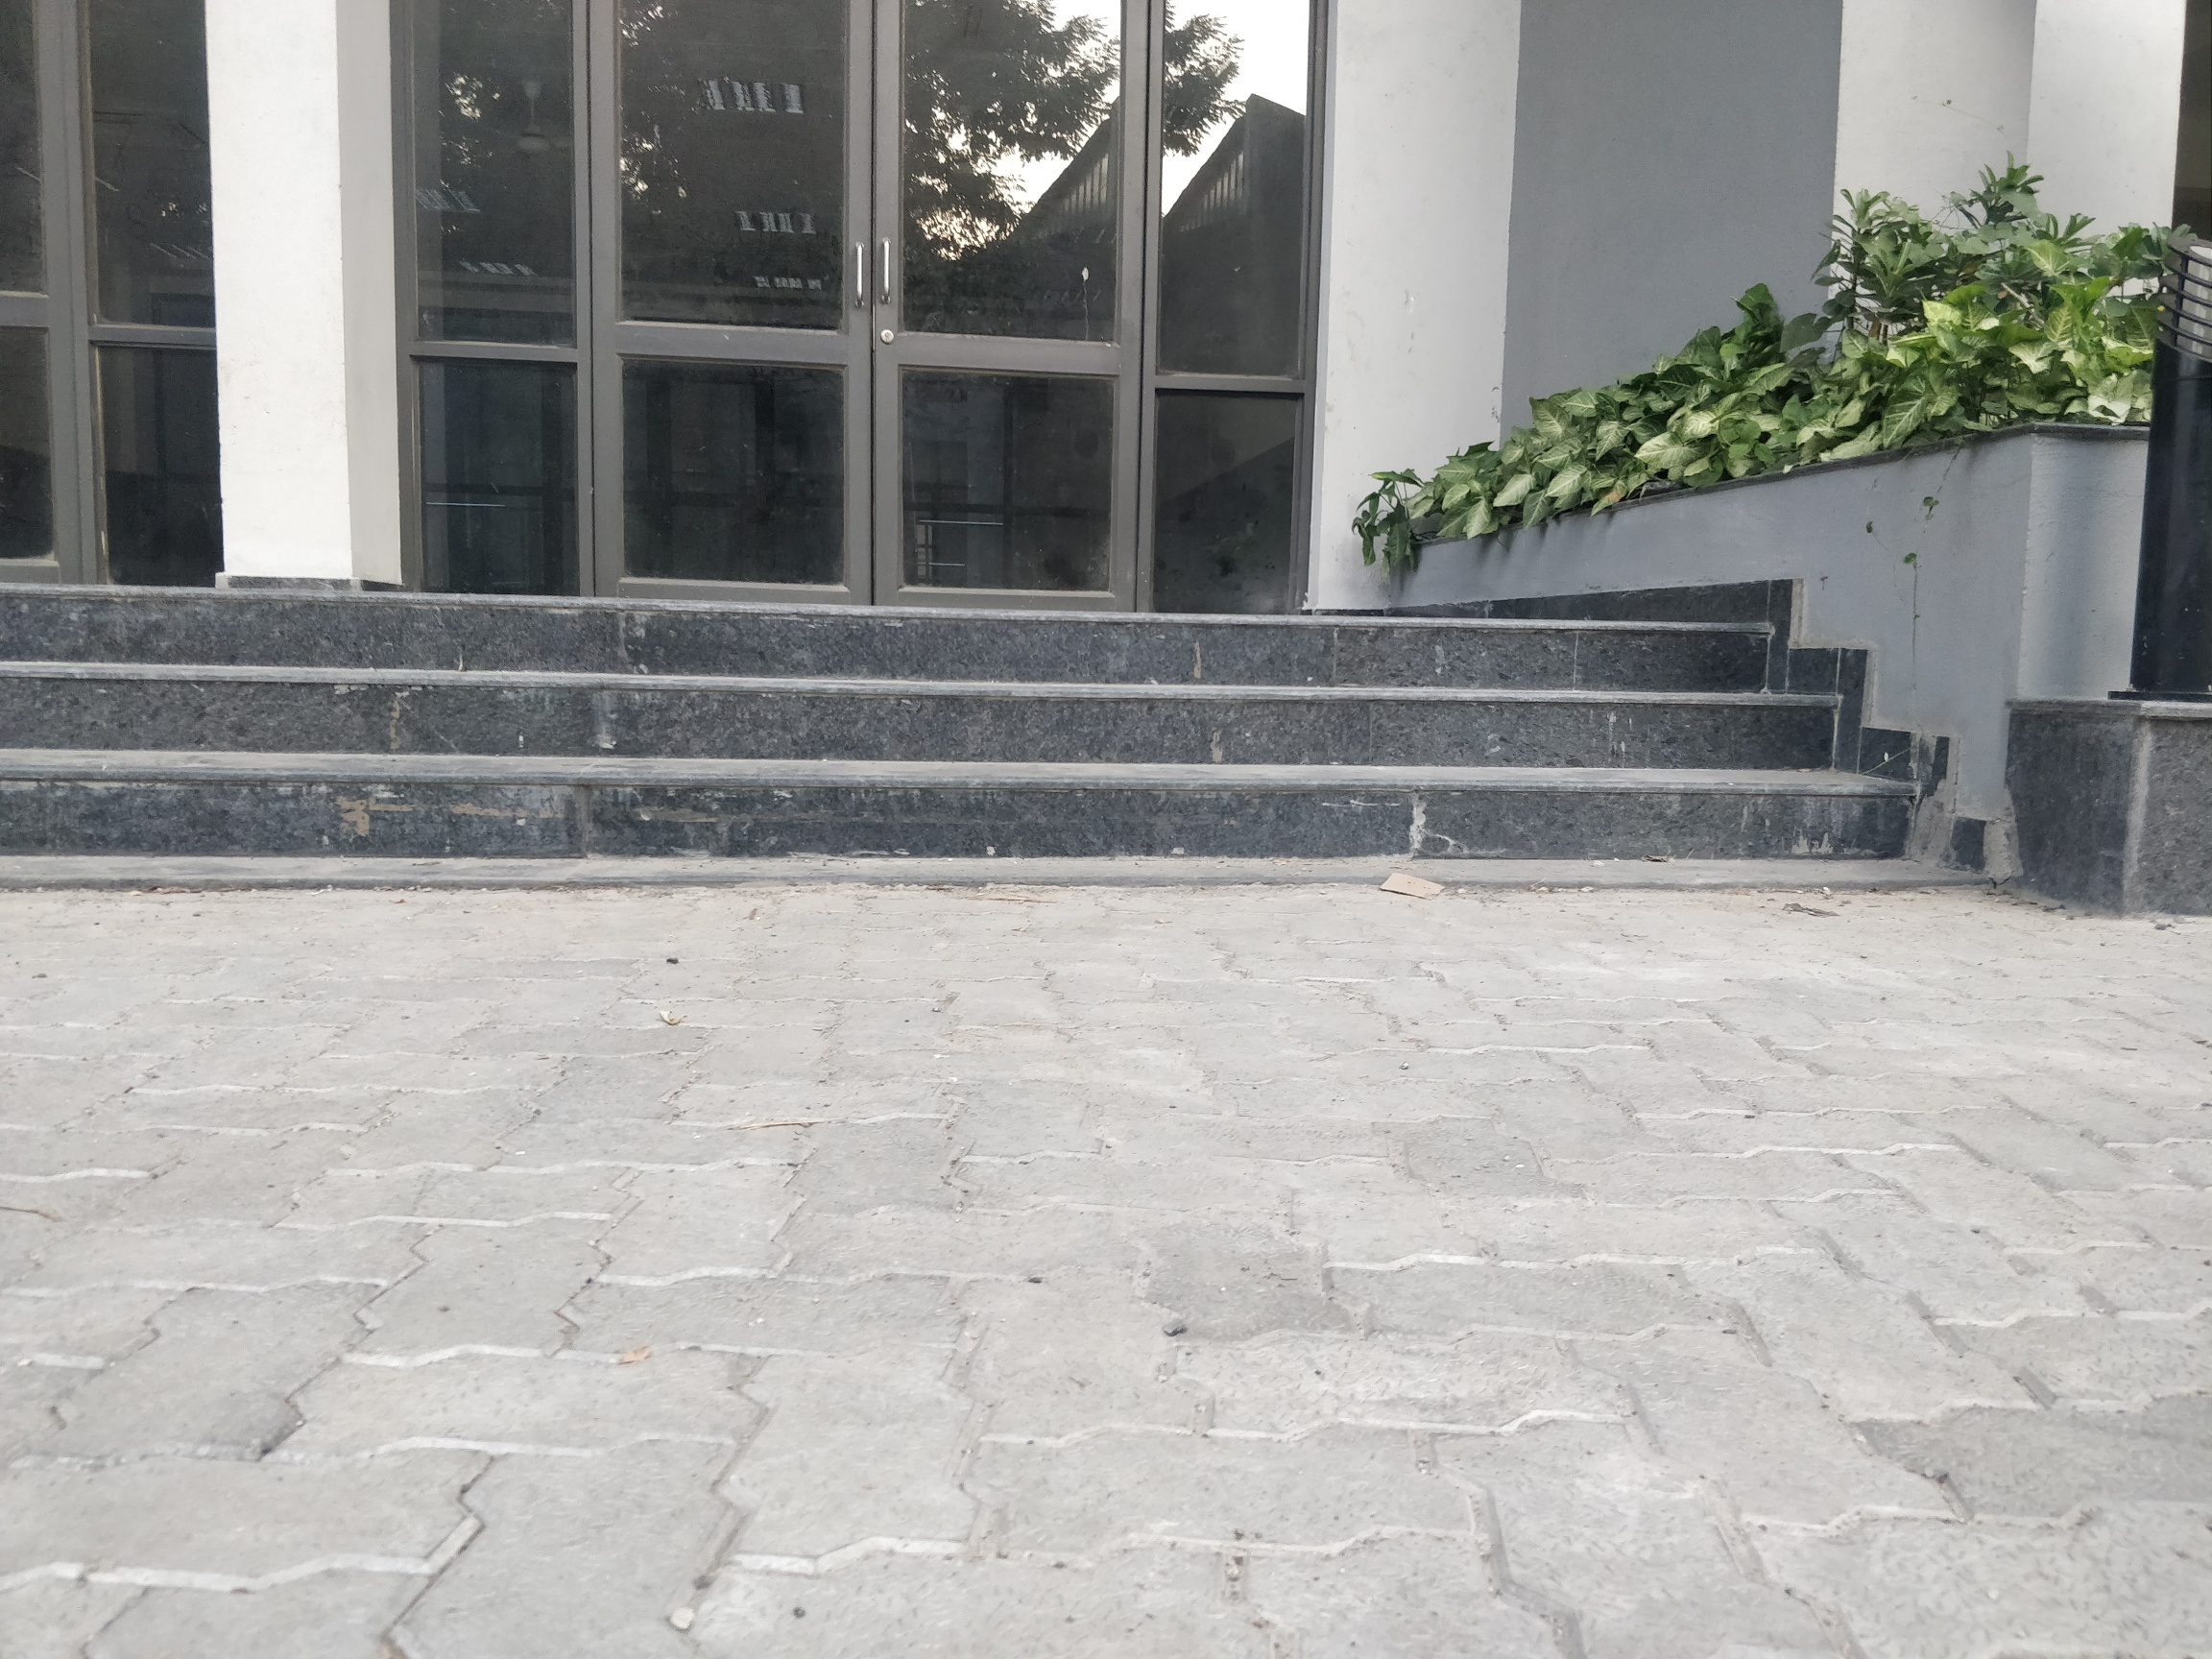stairs_up: (16, 577, 1879, 871)
